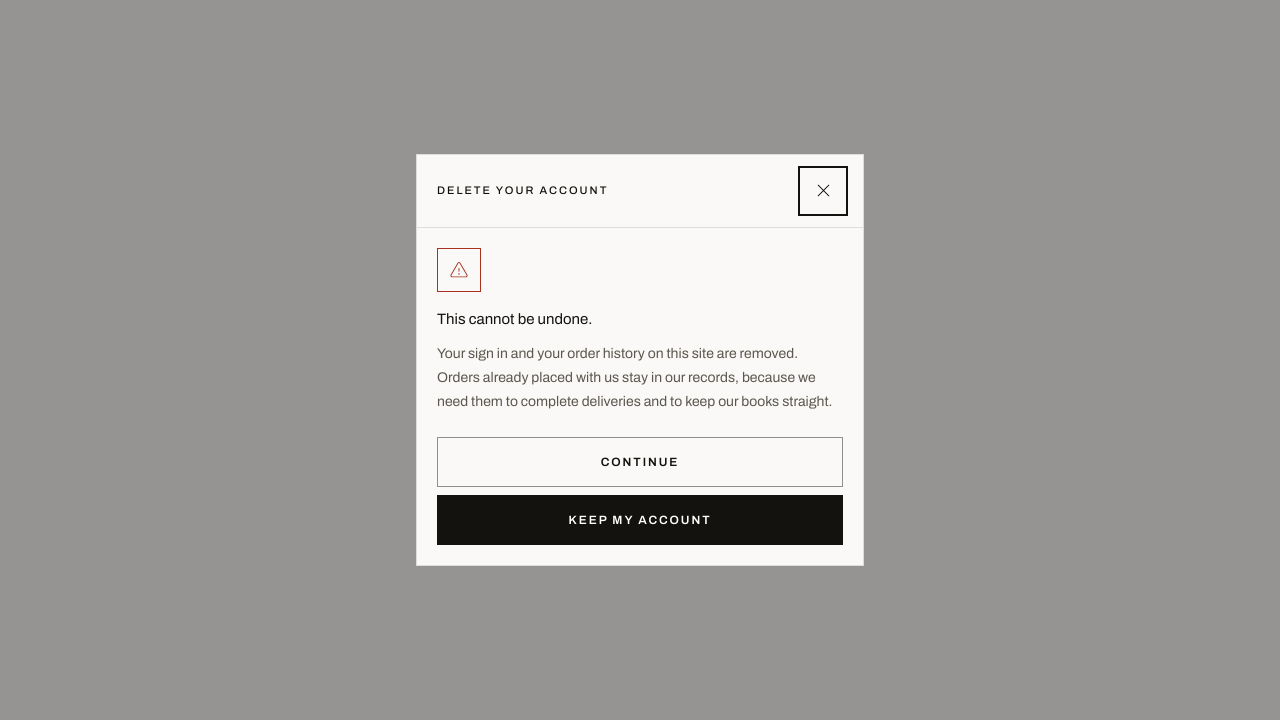
Test case: DeleteAccountModal › keeps the delete button disabled until DELETE is typed exactly
Click the button "Continue" at [640, 462], box [437, 437, 843, 487]
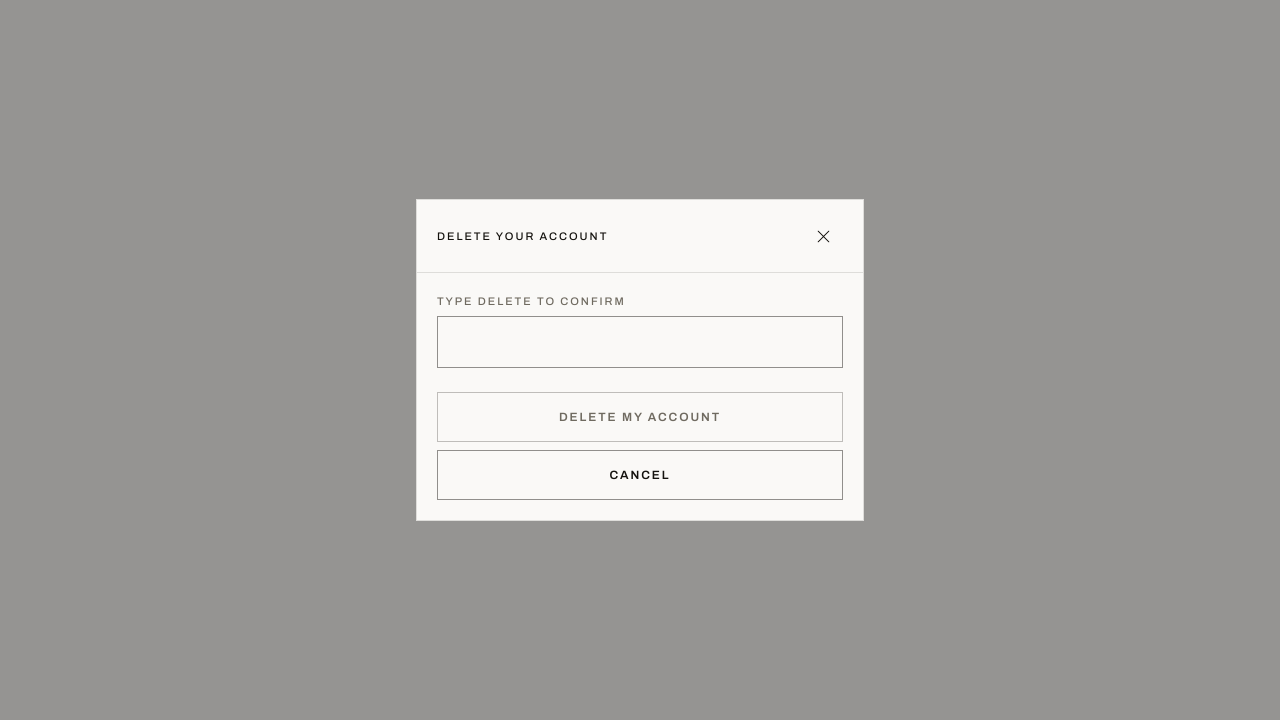
Now the button "Delete my account" is disabled, box [437, 392, 843, 442]
Type "delete" into the field labelled "Type DELETE to confirm" at [640, 342], box [437, 316, 843, 368]
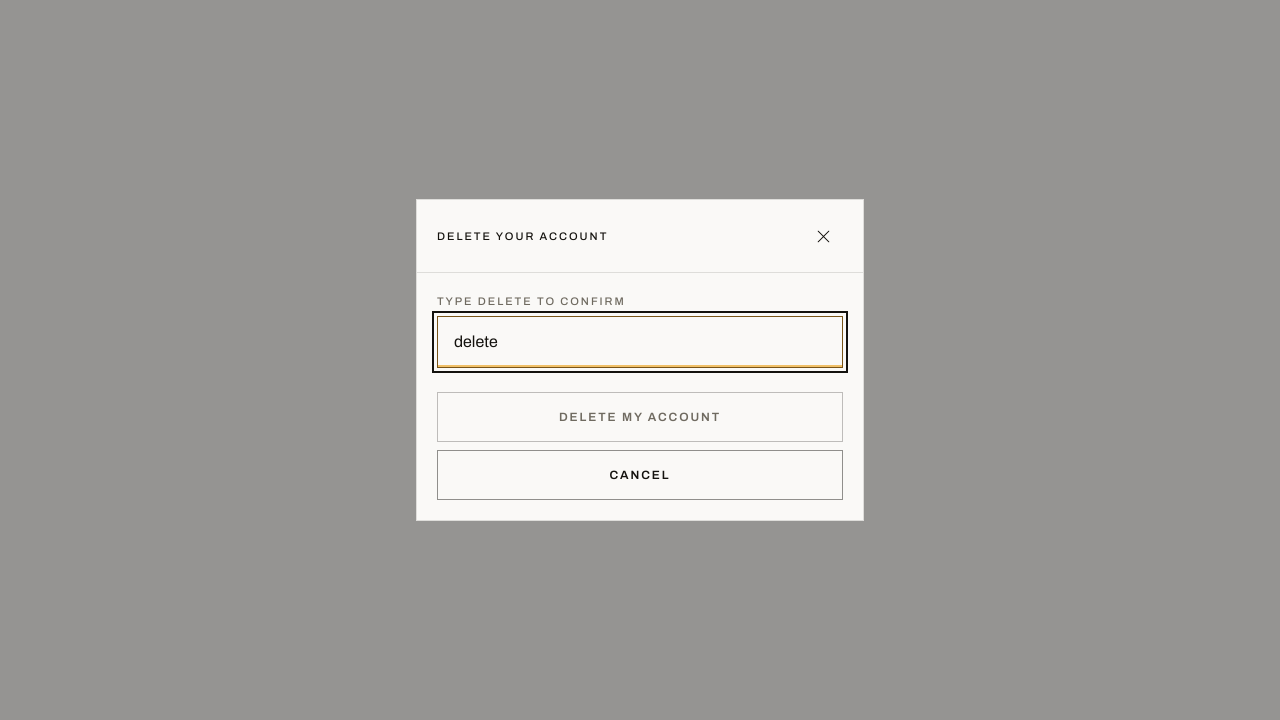
Now the button "Delete my account" is disabled, box [437, 392, 843, 442]
Replace the text in the field labelled "Type DELETE to confirm" with "DELETE" at [640, 342], box [437, 316, 843, 368]
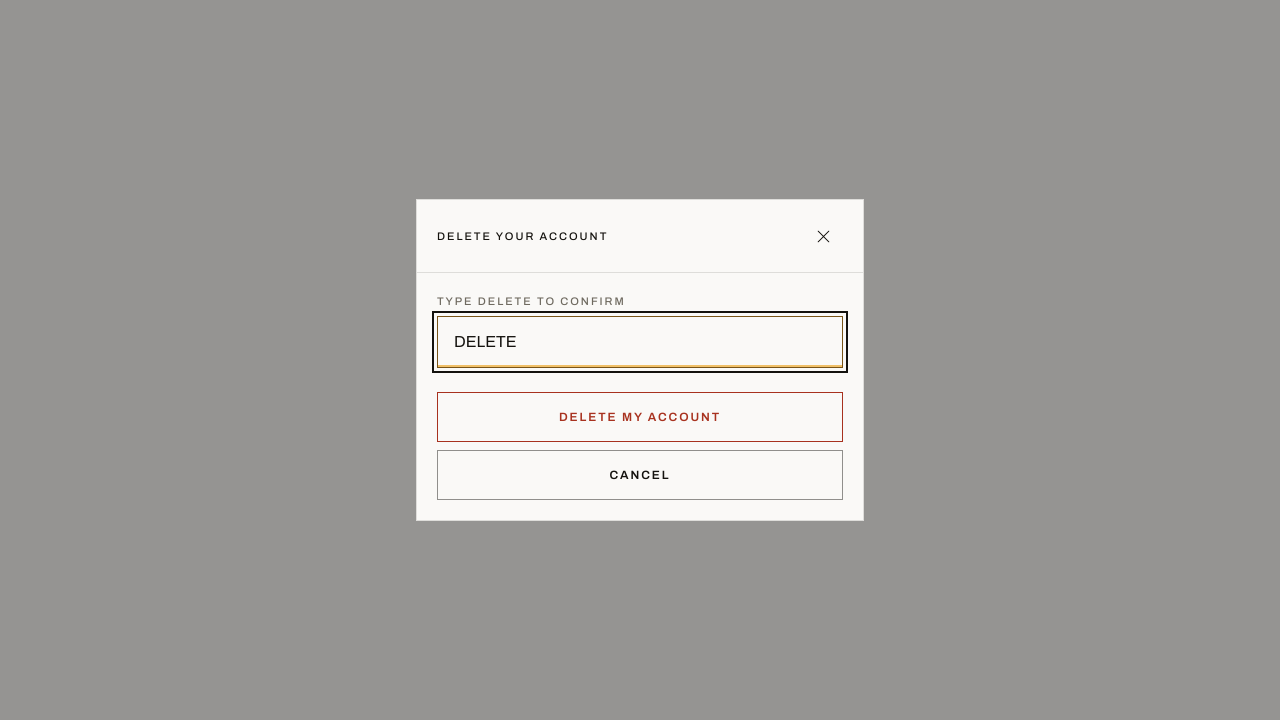
Now the button "Delete my account" is enabled, box [437, 392, 843, 442]
